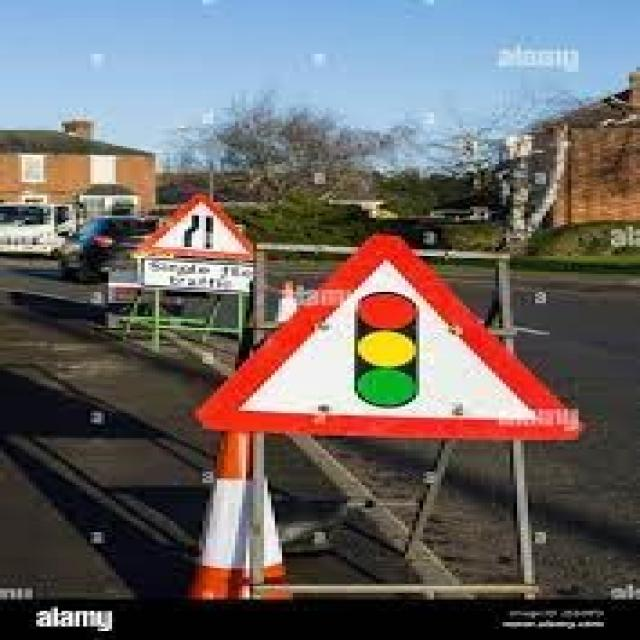light_traffic: (201, 236, 589, 444)
